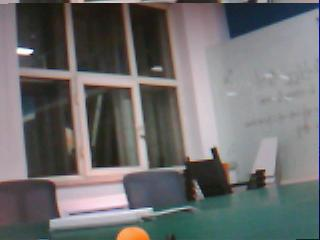oball: (117, 226, 150, 240)
